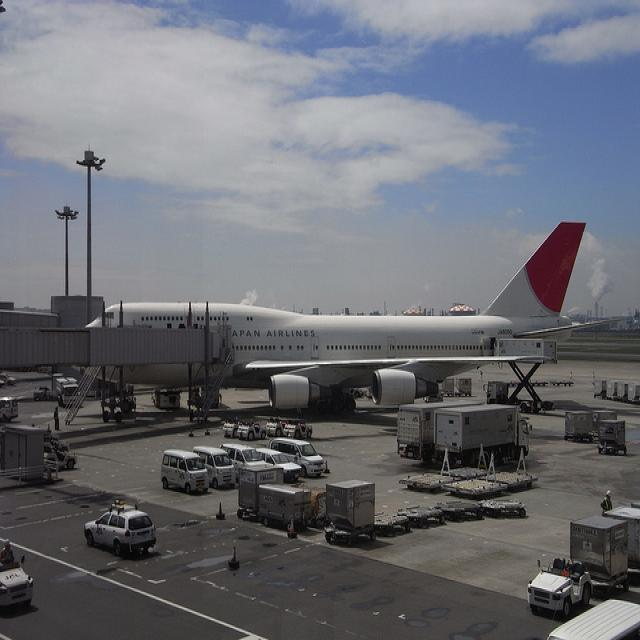Vehicle: (396, 398, 485, 464), (435, 403, 533, 462), (526, 556, 596, 622), (84, 499, 158, 556), (527, 553, 596, 614), (326, 477, 378, 544), (160, 447, 209, 497), (270, 436, 327, 476), (488, 380, 556, 412), (220, 444, 274, 484), (191, 444, 236, 490), (1, 543, 32, 609), (160, 451, 208, 493), (0, 559, 35, 613), (255, 448, 302, 482), (56, 376, 81, 406), (284, 420, 314, 439), (237, 422, 267, 440), (223, 416, 243, 438)
